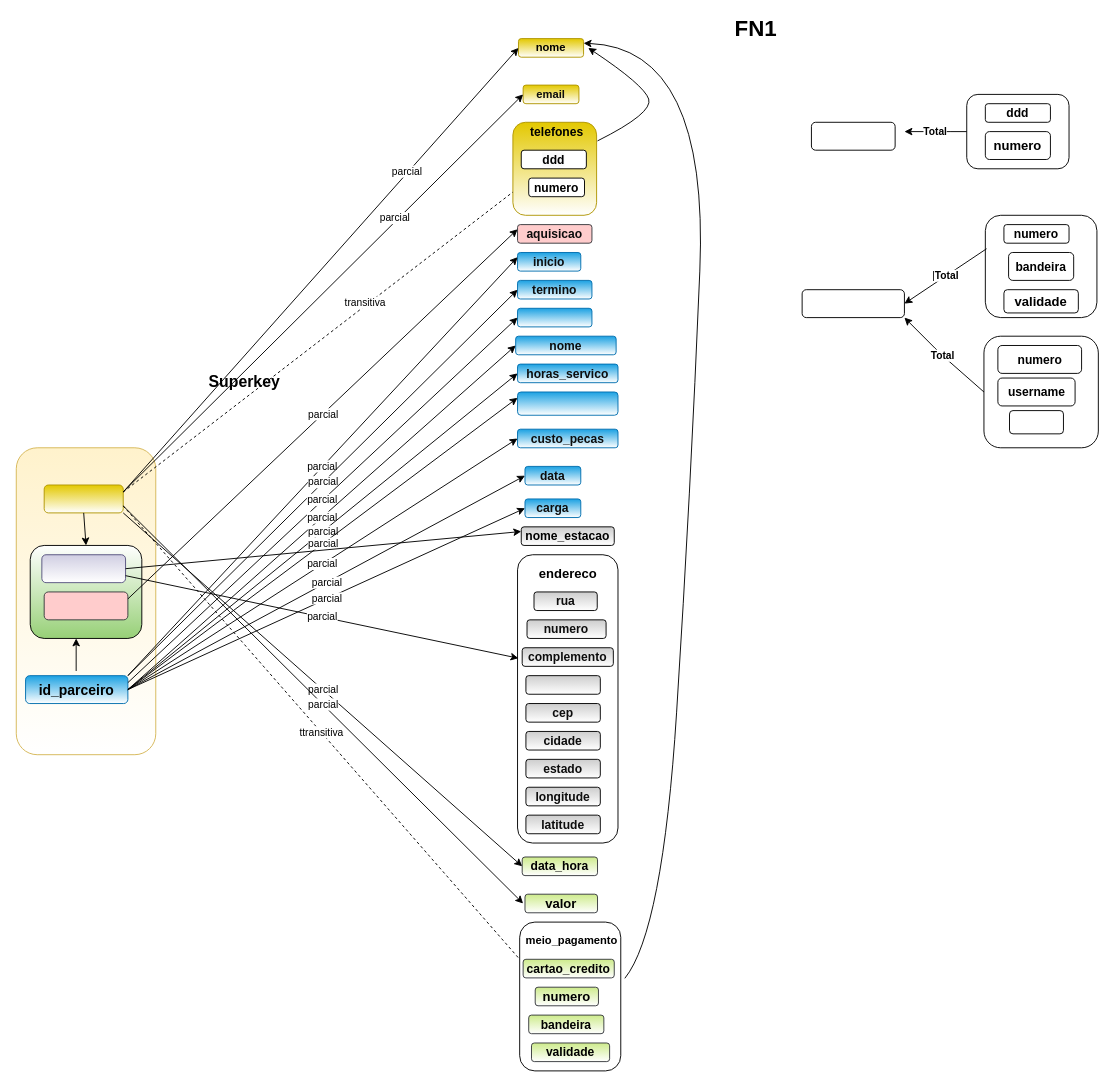
The diagram is 1115 pixels wide and 1087 high, and some of its shapes have lost their labels. The centre of each missing label's shape, as x and y in pixels:
"bairro" belongs at pixel 562 684.
"custo_servico" belongs at pixel 567 403.
"descricao" belongs at pixel 554 317.
"id_estacao" belongs at pixel 83 568.
"id_pagamentos" belongs at pixel 852 303.
"id_patinete" belongs at pixel 85 605.
"id_telefones" belongs at pixel 852 135.
"id_usuario" belongs at pixel 83 498.
"limite" belongs at pixel 1036 422.
